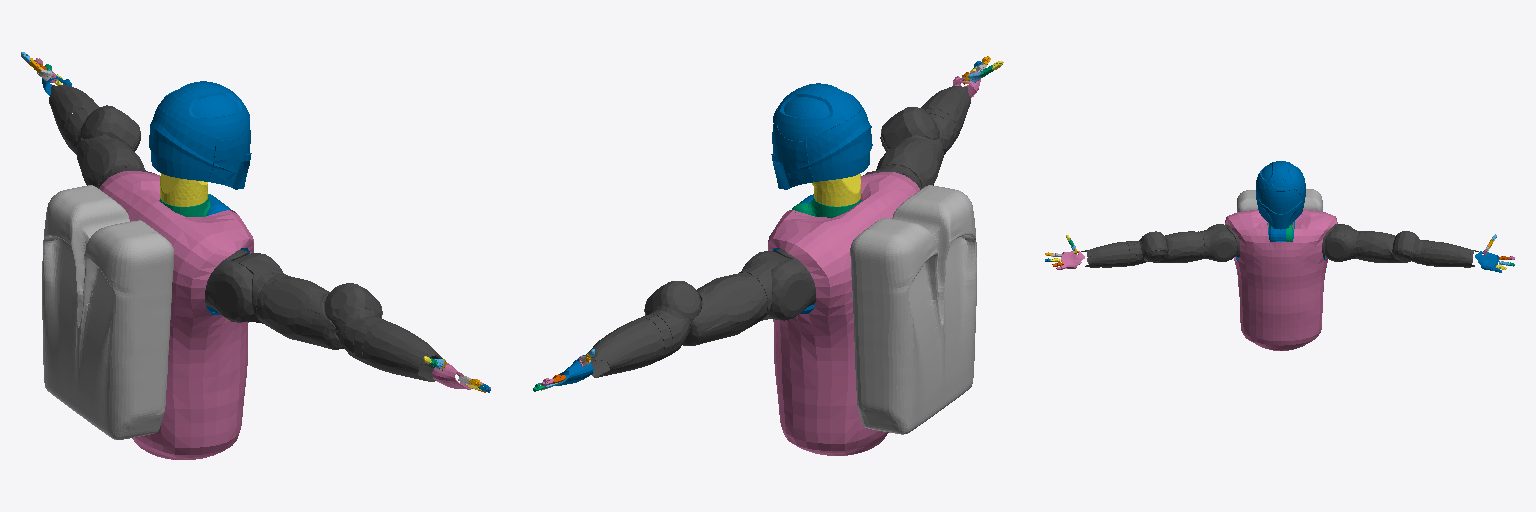
--- What the picture shows (computed from the rendered views, not written in the file) ---
3 views of the same robot in one strip: view 1: azimuth 30°, elevation 25°; view 2: azimuth 150°, elevation 25°; view 3: azimuth 270°, elevation 25° (orthographic).
Model r2 with 71 links and 70 joints (42 revolute, 28 fixed), rooted at r2/world_ref, posed all joints at 0 but 2 set to mid-range because 0 is outside their limits (r2/left_arm/joint2 = -2.42, r2/right_arm/joint2 = 2.42).
Links seen in each view (by area): view 1: r2/backpack, r2/body_cover, r2/head, r2/right_upper_arm, r2/right_lower_arm, r2/right_shoulder_roll, r2/right_elbow, r2/left_upper_arm, r2/left_elbow, r2/left_lower_arm, r2/neck_upper, r2/right_shoulder_pitch; view 2: r2/backpack, r2/body_cover, r2/head, r2/left_upper_arm, r2/left_lower_arm, r2/left_shoulder_roll, r2/left_elbow, r2/right_upper_arm, r2/right_elbow, r2/right_lower_arm, r2/neck_upper, r2/left_shoulder_pitch (+1 smaller); view 3: r2/body_cover, r2/head, r2/left_upper_arm, r2/right_upper_arm, r2/right_lower_arm, r2/left_lower_arm, r2/right_shoulder_pitch, r2/left_shoulder_pitch, r2/backpack, r2/left_elbow, r2/right_elbow.
Link boxes in pixels (box(x1,y1,x2,y2)): r2/backpack: box(42, 185, 173, 439); r2/body_cover: box(99, 171, 253, 459); r2/head: box(149, 81, 251, 189); r2/right_upper_arm: box(256, 274, 382, 349); r2/right_lower_arm: box(354, 317, 442, 381); r2/right_shoulder_roll: box(205, 249, 255, 322); r2/right_elbow: box(325, 283, 381, 359); r2/left_upper_arm: box(77, 131, 145, 188); r2/left_elbow: box(66, 105, 139, 154); r2/left_lower_arm: box(49, 84, 99, 144); r2/neck_upper: box(160, 173, 207, 206); r2/right_shoulder_pitch: box(234, 253, 285, 323); r2/backpack: box(850, 185, 976, 434); r2/body_cover: box(768, 172, 919, 455); r2/head: box(771, 83, 872, 189); r2/left_upper_arm: box(644, 272, 767, 345); r2/left_lower_arm: box(586, 314, 672, 377); r2/left_shoulder_roll: box(768, 249, 815, 320); r2/left_elbow: box(645, 281, 701, 355); r2/right_upper_arm: box(876, 129, 943, 187); r2/right_elbow: box(881, 107, 953, 154); r2/right_lower_arm: box(921, 86, 970, 148); r2/neck_upper: box(812, 174, 860, 206); r2/left_shoulder_pitch: box(739, 251, 792, 320); r2/body_cover: box(1225, 209, 1337, 350); r2/head: box(1256, 161, 1305, 229); r2/left_upper_arm: box(1356, 231, 1415, 262); r2/right_upper_arm: box(1144, 231, 1204, 262); r2/right_lower_arm: box(1081, 241, 1136, 267); r2/left_lower_arm: box(1424, 241, 1478, 267); r2/right_shoulder_pitch: box(1200, 226, 1236, 261); r2/left_shoulder_pitch: box(1325, 226, 1360, 261); r2/backpack: box(1237, 189, 1322, 286); r2/left_elbow: box(1392, 231, 1428, 264); r2/right_elbow: box(1133, 231, 1167, 264).
Bounding box of the posed robot: 0.6249 × 2.37 × 1.02 m (x, y, z).
Meshes: 25 distinct files referenced, 38 mesh visuals loaded (25 Collada DAE).

robot.urdf — r2:
<?xml version="1.0" ?>
<!-- =================================================================================== -->
<!-- |    This document was autogenerated by xacro from ./robots/r2b_sim_upperbody_control.urdf.xacro | -->
<!-- |    EDITING THIS FILE BY HAND IS NOT RECOMMENDED                                 | -->
<!-- =================================================================================== -->
<robot name="r2" xmlns:xacro="http://www.ros.org/wiki/xacro">
  <link name="r2/world_ref"/>
  <joint name="r2/fixed/world_ref/robot_world" type="fixed">
    <parent link="r2/world_ref"/>
    <child link="r2/robot_world"/>
    <origin rpy="0 0 0" xyz="0 0 0"/>
  </joint>
  <link name="r2/robot_world">
    <inertial>
      <mass value="0.01"/>
      <inertia ixx="0.0001" ixy="0.0" ixz="0.0" iyy="0.0001" iyz="0.0" izz="0.0001"/>
    </inertial>
  </link>
  <joint name="r2/fixed/robot_world/robot_base" type="fixed">
    <parent link="r2/robot_world"/>
    <child link="r2/robot_base"/>
    <origin rpy="0.0 3.14159 3.14159" xyz="0.0 0.0 0.0"/>
  </joint>
  <link name="r2/robot_base">
    <inertial>
      <mass value="0.01"/>
      <inertia ixx="0.0001" ixy="0.0" ixz="0.0" iyy="0.0001" iyz="0.0" izz="0.0001"/>
    </inertial>
  </link>
  <material name="white">
    <color rgba="1.0 1.0 1.0 1.0"/>
  </material>
  <material name="dirty_white">
    <color rgba="0.322 0.322 0.322 1.0"/>
  </material>
  <material name="gold">
    <color rgba=".878 .49 0.008 1"/>
  </material>
  <material name="steel">
    <color rgba=".7 .7 .7 1"/>
  </material>
  <material name="blue">
    <color rgba="0 0 0.8 1"/>
  </material>
  <joint name="r2/fixed/robot_base/waist_mass" type="fixed">
    <parent link="r2/robot_base"/>
    <child link="r2/waist_mass"/>
    <origin rpy="0.0 0 0.0" xyz="0.0 0.0 -0.086855"/>
  </joint>
  <link name="r2/waist_mass">
    <inertial>
      <mass value="4.6259465"/>
      <origin rpy="0.0 0 0.0" xyz="-0.00012809088 0.000041480778 0.039080994"/>
      <inertia ixx="0.01684448" ixy="0.00021529806" ixz="-0.0000036013959" iyy="0.017313387" iyz="0.0" izz="0.028769348"/>
    </inertial>
  </link>
  <joint name="r2/waist/joint0" type="revolute">
    <parent link="r2/robot_base"/>
    <child link="r2/waist_center"/>
    <axis xyz="0 0 1"/>
    <origin rpy="0.0 0 0.0" xyz="0.0 0.0 0.0"/>
    <dynamics damping="10.0" friction="0.0"/>
    <limit effort="10000000.0" lower="-3.14" upper="3.14" velocity="1000"/>
  </joint>
  <!--includes mass properties of all torso componenents-->
  <link name="r2/waist_center">
    <visual>
      <geometry>
        <mesh filename="package://r2_description/meshes/r2_upperbody/Body.dae"/>
      </geometry>
      <origin rpy="-1.5708 0 -1.5708" xyz="0.02 0.05 -0.5625"/>
    </visual>
    <collision>
      <geometry>
        <mesh filename="package://r2_description/meshes/r2_upperbody/Body.dae"/>
      </geometry>
      <origin rpy="-1.5708 0 -1.5708" xyz="0.02 0.05 -0.5625"/>
    </collision>
    <inertial>
      <mass value="47.770842"/>
      <origin rpy="0.0 0 0.0" xyz="-0.020473299 0.0039268948 -0.36456539"/>
      <inertia ixx="1.9926945" ixy="-0.0069480619" ixz="-0.059104048" iyy="1.8449528" iyz="0.01958974" izz="0.69736445"/>
    </inertial>
  </link>
  <joint name="r2/fixed/waist_center/robot_reference" type="fixed">
    <parent link="r2/waist_center"/>
    <child link="r2/robot_reference"/>
    <origin rpy="0.0 0 0.0" xyz="0.1234 0.0 0.0"/>
  </joint>
  <joint name="r2/fixed/waist_center/body_cover" type="fixed">
    <parent link="r2/waist_center"/>
    <child link="r2/body_cover"/>
    <origin rpy="0.0 0.0 0.0" xyz="0 0.0 0.0"/>
  </joint>
  <joint name="r2/fixed/waist_center/backpack" type="fixed">
    <parent link="r2/waist_center"/>
    <child link="r2/backpack"/>
    <origin rpy="0.0 0.0 0.0" xyz="-0.145521 0.0 -0.421894"/>
  </joint>
  <joint name="r2/fixed/waist_center/left_shoulder_jr3" type="fixed">
    <parent link="r2/waist_center"/>
    <child link="r2/left_arm/shoulder/jr3"/>
    <origin rpy="0.0 0.0 1.8326" xyz="-0.0240898 -0.0996837 -0.413899"/>
  </joint>
  <joint name="r2/fixed/waist_center/right_shoulder_jr3" type="fixed">
    <parent link="r2/waist_center"/>
    <child link="r2/right_arm/shoulder/jr3"/>
    <origin rpy="0.0 0.0 -1.83259" xyz="-0.0240898 0.0996837 -0.413899"/>
  </joint>
  <link name="r2/robot_reference">
    <inertial>
      <mass value="0.01"/>
      <inertia ixx="0.0001" ixy="0.0" ixz="0.0" iyy="0.0001" iyz="0.0" izz="0.0001"/>
    </inertial>
  </link>
  <link name="r2/body_cover">
    <visual>
      <geometry>
        <mesh filename="package://r2_description/meshes/r2_upperbody/Body_Cover.dae"/>
      </geometry>
      <origin rpy="-1.5708 0 -1.5708" xyz="0.02 0.05 -0.5625"/>
    </visual>
    <collision>
      <geometry>
        <mesh filename="package://r2_description/meshes/r2_upperbody/Body_Cover.dae"/>
      </geometry>
      <origin rpy="-1.5708 0 -1.5708" xyz="0.02 0.05 -0.5625"/>
    </collision>
    <inertial>
      <mass value="0.1"/>
      <inertia ixx="0.001" ixy="0.0" ixz="0.0" iyy="0.001" iyz="0.0" izz="0.001"/>
    </inertial>
  </link>
  <link name="r2/backpack">
    <visual>
      <geometry>
        <mesh filename="package://r2_description/meshes/r2_upperbody/Backpack.dae"/>
      </geometry>
      <origin rpy="0 0 0.25" xyz="0.145521 0.0 -0.118106"/>
    </visual>
    <collision>
      <geometry>
        <mesh filename="package://r2_description/meshes/r2_upperbody/Backpack.dae"/>
      </geometry>
      <origin rpy="0 0 0.25" xyz="0.145521 0.0 -0.118106"/>
    </collision>
    <inertial>
      <mass value="23.505356"/>
      <origin rpy="0.0 0 0.0" xyz="-0.068110236 0.00026288234 -0.015523324"/>
      <inertia ixx="0.87608758" ixy="0.0031949152" ixz="-0.0042079052" iyy="0.57168416" iyz="0.0067562903" izz="0.41612859"/>
    </inertial>
  </link>
  <link name="r2/left_arm/shoulder/jr3">
    <inertial>
      <mass value="0.01"/>
      <inertia ixx="0.0001" ixy="0.0" ixz="0.0" iyy="0.0001" iyz="0.0" izz="0.0001"/>
    </inertial>
  </link>
  <link name="r2/right_arm/shoulder/jr3">
    <inertial>
      <mass value="0.01"/>
      <inertia ixx="0.0001" ixy="0.0" ixz="0.0" iyy="0.0001" iyz="0.0" izz="0.0001"/>
    </inertial>
  </link>
  <joint name="r2/neck/joint0" type="revolute">
    <parent link="r2/waist_center"/>
    <child link="r2/neck_lower"/>
    <origin rpy=" -1.5708 0.0 0.0 " xyz=" 0.08636 -0.0285749 -0.614172 "/>
    <dynamics damping="10.0" friction="0.0"/>
    <axis xyz="0 0 1"/>
    <limit effort="10000.0" lower="-0.7" upper="0.175" velocity="1000.0"/>
  </joint>
  <link name="r2/neck_lower">
    <visual>
      <geometry>
        <mesh filename="package://r2_description/meshes/r2_upperbody/Neck_Lower.dae"/>
      </geometry>
      <origin rpy="-1.5708 1.5708 0" xyz="0.0 0.0 0.0285749"/>
    </visual>
    <inertial>
      <mass value="1.531125"/>
      <origin rpy="0 0 0" xyz="-0.044614256 0.031785824 0.021419445"/>
      <inertia ixx="0.0032988044" ixy="0.0014889073" ixz="0.0004970659" iyy="0.0050478224" iyz="-0.00036827305" izz="0.0052160286"/>
    </inertial>
    <collision>
      <geometry>
        <mesh filename="package://r2_description/meshes/r2_upperbody/Neck_Lower.dae"/>
      </geometry>
      <origin rpy="-1.5708 1.5708 0" xyz="0.0 0.0 0.0285749"/>
    </collision>
  </link>
  <joint name="r2/neck/joint1" type="revolute">
    <parent link="r2/neck_lower"/>
    <child link="r2/neck_upper"/>
    <origin rpy=" -1.5708 0.0 0.0 " xyz=" -0.0762002 0.0762004 0.028575"/>
    <dynamics damping="10.0" friction="0.0"/>
    <axis xyz="0 0 1"/>
    <limit effort="10000.0" lower="-1.22" upper="1.22" velocity="1000.0"/>
  </joint>
  <link name="r2/neck_upper">
    <visual>
      <geometry>
        <mesh filename="package://r2_description/meshes/r2_upperbody/Neck_Upper.dae"/>
      </geometry>
      <origin rpy="0 0 1.5708" xyz="0.0762002 0 -0.0762004"/>
    </visual>
    <inertial>
      <mass value="2.234558"/>
      <origin rpy="0 0 0" xyz="0.0127259 0.0072291452 0.048896507"/>
      <inertia ixx="0.0074125667" ixy="-0.00042898316" ixz="-0.0014528455" iyy="0.0080268117" iyz="-0.00076230267" izz="0.00051467581"/>
    </inertial>
    <collision>
      <geometry>
        <mesh filename="package://r2_description/meshes/r2_upperbody/Neck_Upper.dae"/>
      </geometry>
      <origin rpy="0 0 1.5708" xyz="0.0762002 0 -0.0762004"/>
    </collision>
  </link>
  <joint name="r2/neck/joint2" type="revolute">
    <parent link="r2/neck_upper"/>
    <child link="r2/head"/>
    <origin rpy=" 1.5708 0.0 0.0 " xyz="0.0508 0.0074676 0.101587"/>
    <dynamics damping="10.0" friction="0.0"/>
    <axis xyz="0 0 1"/>
    <limit effort="10000.0" lower="-0.7" upper="0.175" velocity="1000.0"/>
  </joint>
  <link name="r2/head">
    <visual>
      <geometry>
        <mesh filename="package://r2_description/meshes/r2_upperbody/Head.dae"/>
      </geometry>
      <origin rpy="0 1.5708 0" xyz="0.0 0.07 0.0074676"/>
    </visual>
    <collision>
      <geometry>
        <mesh filename="package://r2_description/meshes/r2_upperbody/Head.dae"/>
      </geometry>
      <origin rpy="0 1.5708 0" xyz="0.0 0.07 0.0074676"/>
    </collision>
    <inertial>
      <mass value="5.8503785"/>
      <origin rpy="0 0 0" xyz="0.0048289919 0.074486518 0.013796703"/>
      <inertia ixx="0.045520172" ixy="0.0076844267" ixz="0.0005272352" iyy="0.035519354" iyz="0.001323319" izz="0.044699541"/>
    </inertial>
  </link>
  <joint name="r2/fixed/neck_roll/vision_base" type="fixed">
    <parent link="r2/head"/>
    <child link="r2/head/vision_base"/>
    <origin rpy=" 1.5708 0.0 0.0 " xyz=" 0.0 -0.058 0.0074676"/>
  </joint>
  <link name="r2/head/vision_base">
    <inertial>
      <mass value=".1"/>
      <inertia ixx=".0010" ixy="0.0" ixz="0.0" iyy=".0010" iyz="0.0" izz=".0010"/>
    </inertial>
  </link>
  <!-- depth camera -->
  <joint name="r2/fixed/vision_base/swissranger_frame" type="fixed">
    <parent link="r2/head/vision_base"/>
    <child link="r2/head/swissranger_frame"/>
    <!--<origin rpy="1.3908 0.0 1.5708 " xyz="0.1103264 0.0 -0.005523 "/> -->
    <origin rpy="1.5708 0.0 1.5708 " xyz="0.1103264 0.0 -0.005523 "/>
  </joint>
  <link name="r2/head/swissranger_frame">
    <inertial>
      <mass value=".01"/>
      <inertia ixx=".0010" ixy="0.0" ixz="0.0" iyy=".0010" iyz="0.0" izz=".0010"/>
    </inertial>
  </link>
  <!--stereo cameras -->
  <joint name="r2/fixed/vision_base/vision_center_frame" type="fixed">
    <parent link="r2/head/vision_base"/>
    <child link="r2/head/vision_center_frame"/>
    <dynamics damping="1.0"/>
    <origin rpy="1.5708 -1.5708 1.5708" xyz=" 0.066675 0.0 -0.116205 "/>
  </joint>
  <link name="r2/head/vision_center_frame">
    <inertial>
      <mass value=".1"/>
      <inertia ixx=".0010" ixy="0.0" ixz="0.0" iyy=".0010" iyz="0.0" izz=".0010"/>
    </inertial>
  </link>
  <joint name="r2/fixed/vision_center_frame/left_camera_frame" type="fixed">
    <parent link="r2/head/vision_center_frame"/>
    <child link="r2/head/prosilica/left_camera_frame"/>
    <dynamics damping="1.0"/>
    <origin rpy="0 0 -1.5708" xyz="0.0087 0.04887 0.01789"/>
  </joint>
  <link name="r2/head/prosilica/left_camera_frame">
    <inertial>
      <mass value=".1"/>
      <inertia ixx=".0010" ixy="0.0" ixz="0.0" iyy=".0010" iyz="0.0" izz=".0010"/>
    </inertial>
  </link>
  <joint name="r2/fixed/vision_center_frame/right_camera_frame" type="fixed">
    <parent link="r2/head/vision_center_frame"/>
    <child link="r2/head/prosilica/right_camera_frame"/>
    <dynamics damping="1.0"/>
    <origin rpy="0 0 -1.5708" xyz="0.0087 -0.04887 0.01789"/>
  </joint>
  <link name="r2/head/prosilica/right_camera_frame">
    <inertial>
      <mass value=".1"/>
      <inertia ixx=".0010" ixy="0.0" ixz="0.0" iyy=".0010" iyz="0.0" izz=".0010"/>
    </inertial>
  </link>
  <link name="r2/imu">
    <inertial>
      <mass value="0.01"/>
      <inertia ixx="0.0001" ixy="0.0" ixz="0.0" iyy="0.0001" iyz="0.0" izz="0.0001"/>
    </inertial>
  </link>
  <joint name="r2/fixed/robot_base/imu" type="fixed">
    <parent link="r2/waist_center"/>
    <child link="r2/imu"/>
    <origin rpy="1.5708 0 0" xyz="0.017351 -0.116179 -0.112236"/>
  </joint>
  <joint name="r2/left_arm/joint0" type="revolute">
    <parent link="r2/left_arm/shoulder/jr3"/>
    <child link="r2/left_shoulder_roll"/>
    <origin rpy="0.0 -1.5708 0.0" xyz="0.0054611 0.0 -0.13041"/>
    <axis xyz="0 0 1"/>
    <dynamics damping="10.0" friction="0.0"/>
    <limit effort="100.0" lower="-2.8270" upper="2.8270" velocity="1000"/>
  </joint>
  <link name="r2/left_shoulder_roll">
    <visual>
      <geometry>
        <mesh filename="package://r2_description/meshes/r2_upperbody/Left_Shoulder_Upper.dae"/>
      </geometry>
      <material name="dirty_white"/>
      <origin rpy="0.0 0.0 3.1416" xyz="0.0 0.0 -0.01274"/>
    </visual>
    <collision>
      <geometry>
        <mesh filename="package://r2_description/meshes/r2_upperbody/Left_Shoulder_Upper.dae"/>
      </geometry>
      <origin rpy="0.0 0.0 3.1416" xyz="0.0 0.0 -0.01274"/>
    </collision>
    <inertial>
      <origin xyz="0.00017093234 -0.0087284787   -0.10884506"/>
      <mass value="7.070314"/>
      <inertia ixx="0.076584602" ixy="0.000086319951" ixz="0.00054609047" iyy="0.08016999" iyz="0.0066841031" izz="0.02390013"/>
    </inertial>
  </link>
  <joint name="r2/left_arm/joint1" type="revolute">
    <parent link="r2/left_shoulder_roll"/>
    <child link="r2/left_shoulder_pitch"/>
    <origin rpy=" 0.0 -1.5708 1.5708" xyz=" 0.0 0.0466596 0.210022 "/>
    <axis xyz="0 0 1"/>
    <dynamics damping="10.0" friction="0.0"/>
    <limit effort="100.0" lower="-1.6758" upper="0.4292" velocity="1000"/>
  </joint>
  <link name="r2/left_shoulder_pitch">
    <visual>
      <geometry>
        <mesh filename="package://r2_description/meshes/r2_upperbody/Left_Shoulder_Lower.dae"/>
      </geometry>
      <material name="dirty_white"/>
      <origin rpy="0.0 0.0 0.0" xyz="0.0 0.0 0.0466596"/>
    </visual>
    <collision>
      <geometry>
        <mesh filename="package://r2_description/meshes/r2_upperbody/Left_Shoulder_Lower.dae"/>
      </geometry>
      <origin rpy="0.0 0.0 0.0" xyz="0.0 0.0 0.0466596"/>
    </collision>
    <inertial>
      <origin xyz="0.034871718 0.00026989995  -0.056391797"/>
      <mass value="4.7275387"/>
      <inertia ixx="0.01281093" ixy="-0.000025211205" ixz="-0.0019887882" iyy="0.026994354" iyz="-0.000056988895" izz="0.028670313"/>
    </inertial>
  </link>
  <joint name="r2/left_arm/joint2" type="revolute">
    <parent link="r2/left_shoulder_pitch"/>
    <child link="r2/left_upper_arm"/>
    <origin rpy="-1.5708 0.0 -1.5708" xyz="0.169324 0 0.0458976"/>
    <axis xyz="0 0 1"/>
    <dynamics damping="10.0" friction="0.0"/>
    <limit effort="100.0" lower="-4.5028" upper="-0.3318" velocity="1000"/>
  </joint>
  <link name="r2/left_upper_arm">
    <visual>
      <geometry>
        <mesh filename="package://r2_description/meshes/r2_upperbody/Left_Upper_Arm.dae"/>
      </geometry>
      <material name="dirty_white"/>
      <origin rpy="0.0 0.0 0.0" xyz="0.0 0.0 -0.067724"/>
    </visual>
    <collision>
      <geometry>
        <mesh filename="package://r2_description/meshes/r2_upperbody/Left_Upper_Arm.dae"/>
      </geometry>
      <origin rpy="0.0 0.0 0.0" xyz="0.0 0.0 -0.067724"/>
    </collision>
    <inertial>
      <origin xyz="0.011979384 -0.0073390714 0.079871897"/>
      <mass value="4.9025709"/>
      <inertia ixx="0.044036190" ixy="0.0013812407" ixz="-0.0068318982" iyy="0.048358309" iyz="0.0035598559" izz="0.016564943"/>
    </inertial>
  </link>
  <joint name="r2/left_arm/joint3" type="revolute">
    <parent link="r2/left_upper_arm"/>
    <child link="r2/left_elbow"/>
    <origin rpy="0.0 -1.5708 1.5708" xyz="0.05334 0.0313243 0.185006"/>
    <axis xyz="0 0 1"/>
    <dynamics damping="1.0" friction="0.0"/>
    <limit effort="100.0" lower="-2.7930" upper="0.0" velocity="1000"/>
  </joint>
  <link name="r2/left_elbow">
    <visual>
      <geometry>
        <mesh filename="package://r2_description/meshes/r2_upperbody/Left_Elbow.dae"/>
      </geometry>
      <material name="dirty_white"/>
      <origin rpy="0 0.0 0" xyz="0 0 0.0313243"/>
    </visual>
    <collision>
      <geometry>
        <mesh filename="package://r2_description/meshes/r2_upperbody/Left_Elbow.dae"/>
      </geometry>
      <origin rpy="0 0.0 0" xyz="0.0 0.0 0.0313243"/>
    </collision>
    <inertial>
      <origin xyz="0.035398630 0.025517855  -0.036241795"/>
      <mass value="2.3377006"/>
      <inertia ixx="0.0067529558" ixy="-0.0026092481" ixz="-0.00060380235" iyy="0.0080987220" iyz="-0.00047453566" izz="0.009863562"/>
    </inertial>
  </link>
  <joint name="r2/left_arm/joint4" type="revolute">
    <parent link="r2/left_elbow"/>
    <child link="r2/left_joint4_output"/>
    <origin rpy="-0.9550 1.5708 -0.9550" xyz="0.0541223 0.0533300 0.0305397"/>
    <axis xyz="0 0 1"/>
    <dynamics damping="1.0" friction="0.0"/>
    <limit effort="100.0" lower="-1.5360" upper="4.6770" velocity="1000"/>
  </joint>
  <link name="r2/left_joint4_output">
    <inertial>
      <mass value="0.01"/>
      <inertia ixx="0.0001" ixy="0.0" ixz="0.0" iyy="0.0001" iyz="0.0" izz="0.0001"/>
    </inertial>
  </link>
  <joint name="r2/fixed/left_lower_arm/left_forearm_jr3" type="fixed">
    <parent link="r2/left_joint4_output"/>
    <child link="r2/left_arm/forearm/jr3"/>
    <origin rpy="3.1416 0.0 0.78539" xyz="0.0 0.0 0.0897574"/>
  </joint>
  <link name="r2/left_arm/forearm/jr3">
    <inertial>
      <mass value="0.01"/>
      <inertia ixx="0.0001" ixy="0.0" ixz="0.0" iyy="0.0001" iyz="0.0" izz="0.0001"/>
    </inertial>
  </link>
  <joint name="r2/fixed/left_lower_arm/left_forearm" type="fixed">
    <parent link="r2/left_arm/forearm/jr3"/>
    <child link="r2/left_lower_arm"/>
    <origin rpy="3.1416 0.0 0.7854" xyz="0.0 0.0 0.0897574"/>
  </joint>
  <link name="r2/left_lower_arm">
    <visual>
      <geometry>
        <mesh filename="package://r2_description/meshes/r2_upperbody/Left_Forearm.dae"/>
      </geometry>
      <material name="dirty_white"/>
      <origin rpy="0 0 1.5708" xyz="0 0.0 0.0458777"/>
    </visual>
    <collision>
      <geometry>
        <mesh filename="package://r2_description/meshes/r2_upperbody/Left_Forearm.dae"/>
      </geometry>
      <origin rpy="0 0 1.5708" xyz="0 0.0 0.0458777"/>
    </collision>
    <inertial>
      <origin xyz="0.0039950818 0.00044312736  0.16275601"/>
      <mass value="8.1525875"/>
      <inertia ixx="0.10706156" ixy="0.00070538028" ixz="-0.0061176777" iyy="0.11007507" iyz="0.0020551081" izz="0.015240452"/>
    </inertial>
  </link>
  <joint name="r2/left_arm/wrist/pitch" type="revolute">
    <parent link="r2/left_lower_arm"/>
    <child link="r2/left_wrist_pitch"/>
    <origin rpy="0 -1.5708 0.0 " xyz="0.000616510 0 0.301768"/>
    <axis xyz="0 0 1"/>
    <dynamics damping="1.0" friction="0.0"/>
    <limit effort="100.0" lower="-0.8" upper="0.8" velocity="1000"/>
  </joint>
  <link name="r2/left_wrist_pitch">
    <inertial>
      <origin xyz="0.0 0.0 0.0"/>
      <mass value="0.01"/>
      <inertia ixx="0.0001" ixy="0.0" ixz="0.0" iyy="0.0001" iyz="0.0" izz="0.0001"/>
    </inertial>
  </link>
  <joint name="r2/left_arm/wrist/yaw" type="revolute">
    <parent link="r2/left_wrist_pitch"/>
    <child link="r2/left_wrist_yaw"/>
    <origin rpy="1.5708 0.0646 -0.0802" xyz="0.00635 0 0.00041451"/>
    <axis xyz="0 0 1"/>
    <dynamics damping="1.0" friction="0.0"/>
    <limit effort="100.0" lower="-0.75" upper="0.15" velocity="1000"/>
  </joint>
  <link name="r2/left_wrist_yaw">
    <inertial>
      <origin xyz="0.0 0.0 0.0"/>
      <mass value="0.01"/>
      <inertia ixx="0.0001" ixy="0.0" ixz="0.0" iyy="0.0001" iyz="0.0" izz="0.0001"/>
    </inertial>
  </link>
  <joint name="r2/fixed/left_wrist_yaw/left_palm" type="fixed">
    <parent link="r2/left_wrist_yaw"/>
    <child link="r2/left_palm"/>
    <origin rpy=" 0.0 0.0 0" xyz=" 0.0 0.0 0.0 "/>
  </joint>
  <link name="r2/left_palm">
    <visual>
      <geometry>
        <mesh filename="package://r2_description/meshes/r2_upperbody/Left_Palm.dae"/>
      </geometry>
      <origin rpy="3.1416 0 1.5708" xyz="0.0 0.0 0.0"/>
    </visual>
    <collision>
      <geometry>
        <mesh filename="package://r2_description/meshes/r2_upperbody/Left_Palm.dae"/>
      </geometry>
      <origin rpy="3.1416 0 1.5708" xyz="0.0 0.0 0.0"/>
    </collision>
    <inertial>
      <mass value="0.01"/>
      <inertia ixx="0.0001" ixy="0.0" ixz="0.0" iyy="0.0001" iyz="0.0" izz="0.0001"/>
    </inertial>
  </link>
  <!--
  <property name="left_arm_hand_index_j3_damping" value= "0.1" />
  <property name="left_arm_hand_index_j3_friction" value= "0.0" />
-->
  <!--
  <property name="left_arm_hand_middle_j3_damping" value= "0.1" />
  <property name="left_arm_hand_middle_j3_friction" value= "0.0" />
-->
  <!--
  <property name="left_arm_hand_ring_j1_damping" value= "0.1" />
  <property name="left_arm_hand_ring_j1_friction" value= "0.0" />
  <property name="left_arm_hand_ring_j2_damping" value= "0.1" />
  <property name="left_arm_hand_ring_j2_friction" value= "0.0" />
-->
  <!--
  <property name="left_arm_hand_little_j1_damping" value= "0.1" />
  <property name="left_arm_hand_little_j1_friction" value= "0.0" />
  <property name="left_arm_hand_little_j2_damping" value= "0.1" />
  <property name="left_arm_hand_little_j2_friction" value= "0.0" />
-->
  <joint name="r2/left_arm/hand/thumb/roll" type="revolute">
    <parent link="r2/left_wrist_yaw"/>
    <child link="r2/left_thumb_base"/>
    <origin rpy=" -1.5708 0.0 1.30899702752 " xyz=" 0.03302 0.03048 0.00635 "/>
    <axis xyz="0 0 1"/>
    <limit effort="10000000.0" lower="-4" upper="4" velocity="1000"/>
    <dynamics damping="0.1" friction="0.0"/>
  </joint>
  <joint name="r2/fixed/left_index_base/left_index_base" type="fixed">
    <parent link="r2/left_wrist_yaw"/>
    <child link="r2/left_index_base"/>
    <origin rpy=" 0.0 0.0 0.122172725275 " xyz=" 0.0994646728 0.0271119346 -0.0161544 "/>
  </joint>
  <joint name="r2/left_arm/hand/index/yaw" type="revolute">
    <parent link="r2/left_index_base"/>
    <child link="r2/left_index_yaw"/>
    <origin rpy="0.0 0.0 0.0" xyz="0.0 0.0 0.0"/>
    <axis xyz="0 0 1"/>
    <limit effort="10000000.0" lower="-4" upper="4" velocity="1000"/>
    <dynamics damping="0.1" friction="0.0"/>
  </joint>
  <joint name="r2/fixed/left_middle_base/left_middle_base" type="fixed">
    <parent link="r2/left_wrist_yaw"/>
    <child link="r2/left_middle_base"/>
    <origin rpy=" 0.0 0.0 0.0 " xyz=" 0.10646537 0.00254 -0.0161544 "/>
  </joint>
  <joint name="r2/left_arm/hand/middle/yaw" type="revolute">
    <parent link="r2/left_middle_base"/>
    <child link="r2/left_middle_yaw"/>
    <origin rpy="0.0 0.0 0.0" xyz="0.0 0.0 0.0"/>
    <axis xyz="0 0 1"/>
    <limit effort="10000000.0" lower="-4" upper="4" velocity="1000"/>
    <dynamics damping="0.1" friction="0.0"/>
  </joint>
  <joint name="r2/left_arm/hand/ringlittle/ring" type="revolute">
    <parent link="r2/left_wrist_yaw"/>
    <child link="r2/left_ring_proximal"/>
    <origin rpy=" 1.5708 -0.0 -0.122172725275 " xyz=" 0.1084570602 -0.0197673468 -0.012319 "/>
    <axis xyz="0 0 1"/>
    <limit effort="10000000.0" lower="-4" upper="4" velocity="1000"/>
    <dynamics damping="0.1" friction="0.0"/>
  </joint>
  <joint name="r2/left_arm/hand/ringlittle/little" type="revolute">
    <parent link="r2/left_wrist_yaw"/>
    <child link="r2/left_little_proximal"/>
    <origin rpy=" 1.60570321374 -0.0872667473393 -0.17453258148 " xyz=" 0.094635701 -0.0403792436 -0.0060878212 "/>
    <axis xyz="0 0 1"/>
    <limit effort="10000000.0" lower="-4" upper="4" velocity="1000"/>
    <dynamics damping="0.1" friction="0.0"/>
  </joint>
  <link name="r2/left_thumb_base">
    <inertial>
      <mass value=".05"/>
      <inertia ixx=".0010" ixy="0.0" ixz="0.0" iyy=".0010" iyz="0.0" izz=".0010"/>
    </inertial>
  </link>
  <joint name="r2/fixed/left_thumb_base/left_thumb_proximal" type="fixed">
    <parent link="r2/left_thumb_base"/>
    <child link="r2/left_thumb_proximal"/>
    <origin rpy=" -1.5708 -0.0 0.0 " xyz=" 0.011938 0.0 0.0 "/>
  </joint>
  <link name="r2/left_thumb_proximal">
    <inertial>
      <mass value=".0010"/>
      <inertia ixx=".0010" ixy="0.0" ixz="0.0" iyy=".0010" iyz="0.0" izz=".0010"/>
    </inertial>
    <visual>
      <geometry>
        <mesh filename="package://r2_description/meshes/r2_upperbody/Left_Thumb_Carp.dae"/>
      </geometry>
      <origin rpy="-1.5708 0 0" xyz="-0.01 0.0 0.0"/>
    </visual>
    <collision>
      <geometry>
        <mesh filename="package://r2_description/meshes/r2_upperbody/Left_Thumb_Carp.dae"/>
      </geometry>
      <origin rpy="-1.5708 0 0" xyz="-0.01 0.0 0.0"/>
    </collision>
  </link>
  <joint name="r2/left_arm/hand/thumb/proximal" type="revolute">
    <parent link="r2/left_thumb_proximal"/>
    <child link="r2/left_thumb_medial_prime"/>
    <origin rpy=" 0.0 0.0 0.0 " xyz=" 0.0 0.0 0.0 "/>
    <axis xyz="0 0 1"/>
    <limit effort="10000000.0" lower="-4" upper="4" velocity="1000"/>
    <dynamics damping="0.1" friction="0.0"/>
  </joint>
  <link name="r2/left_thumb_medial_prime">
    <inertial>
      <mass value=".0010"/>
      <inertia ixx=".0010" ixy="0.0" ixz="0.0" iyy=".0010" iyz="0.0" izz=".0010"/>
    </inertial>
    <visual>
      <geometry>
        <mesh filename="package://r2_description/meshes/r2_upperbody/Left_Thumb_MtCar.dae"/>
      </geometry>
      <origin rpy="-1.5708 -1.5708 0" xyz="-0.0 0 0.0"/>
    </visual>
    <collision>
      <geometry>
        <mesh filename="package://r2_description/meshes/r2_upperbody/Left_Thumb_MtCar.dae"/>
      </geometry>
      <origin rpy="-1.5708 -1.5708 0" xyz="0.0 0.0 0.0"/>
    </collision>
  </link>
  <joint name="r2/left_arm/hand/thumb/medial" type="revolute">
    <parent link="r2/left_thumb_medial_prime"/>
    <child link="r2/left_thumb_medial"/>
    <origin rpy=" -0.698132284627 -0.0 0.0 " xyz=" 0.030734 -0.001905 0.00254 "/>
    <axis xyz="0 0 1"/>
    <limit effort="10000000.0" lower="-4" upper="4" velocity="1000"/>
    <dynamics damping="0.1" friction="0.0"/>
  </joint>
  <link name="r2/left_thumb_medial">
    <inertial>
      <mass value=".0010"/>
      <inertia ixx=".0010" ixy="0.0" ixz="0.0" iyy=".0010" iyz="0.0" izz=".0010"/>
    </inertial>
    <visual>
      <geometry>
        <mesh filename="package://r2_description/meshes/r2_upperbody/Thumb_Proximal.dae"/>
      </geometry>
      <origin rpy="3.1416 0 1.5708" xyz="0.0 0.0 0.0"/>
    </visual>
    <collision>
      <geometry>
        <mesh filename="package://r2_description/meshes/r2_upperbody/Thumb_Proximal.dae"/>
      </geometry>
      <origin rpy="3.1416 0 1.5708" xyz="0.0 0.0 0.0"/>
    </collision>
  </link>
  <joint name="r2/left_arm/hand/thumb/distal" type="revolute">
    <parent link="r2/left_thumb_medial"/>
    <child link="r2/left_thumb_distal"/>
    <origin rpy=" 0.0 0.0 0.0 " xyz=" 0.03937 0.0 0.0 "/>
    <axis xyz="0 0 1"/>
    <limit effort="10000000.0" lower="-4" upper="4" velocity="1000"/>
    <dynamics damping="0.1" friction="0.0"/>
  </joint>
  <link name="r2/left_thumb_distal">
    <inertial>
      <mass value=".0010"/>
      <inertia ixx=".0010" ixy="0.0" ixz="0.0" iyy=".0010" iyz="0.0" izz=".0010"/>
    </inertial>
    <visual>
      <geometry>
        <mesh filename="package://r2_description/meshes/r2_upperbody/Thumb_Dist.dae"/>
      </geometry>
      <origin rpy="3.1416 3.1416 0" xyz="0.0 0.0 0.0"/>
    </visual>
    <collision>
      <geometry>
        <mesh filename="package://r2_description/meshes/r2_upperbody/Thumb_Dist.dae"/>
      </geometry>
      <origin rpy="3.1416 3.1416 0" xyz="0.0 0.0 0.0"/>
    </collision>
  </link>
  <joint name="r2/fixed/left_thumb_distal/left_thumb_tip" type="fixed">
    <parent link="r2/left_thumb_distal"/>
    <child link="r2/left_thumb_tip"/>
    <origin rpy=" 0.0 0.0 0.0 " xyz=" 0.03302 0.0 0.0 "/>
  </joint>
  <link name="r2/left_thumb_tip">
    <inertial>
      <mass value=".0010"/>
      <inertia ixx=".0010" ixy="0.0" ixz="0.0" iyy=".0010" iyz="0.0" izz=".0010"/>
    </inertial>
  </link>
  <link name="r2/left_index_base">
    <inertial>
      <mass value=".0010"/>
      <inertia ixx=".0010" ixy="0.0" ixz="0.0" iyy=".0010" iyz="0.0" izz=".0010"/>
    </inertial>
  </link>
  <link name="r2/left_index_yaw">
    <inertial>
      <mass value=".0010"/>
      <inertia ixx=".0010" ixy="0.0" ixz="0.0" iyy=".0010" iyz="0.0" izz=".0010"/>
    </inertial>
  </link>
  <joint name="r2/left_arm/hand/index/proximal" type="revolute">
    <parent link="r2/left_index_yaw"/>
    <child link="r2/left_index_proximal"/>
    <origin rpy=" 1.5708 0.0 0.0 " xyz=" 0.009652 0.0 0.0 "/>
    <axis xyz="0 0 1"/>
    <limit effort="10000000.0" lower="-4" upper="4" velocity="1000"/>
    <dynamics damping="0.1" friction="0.0"/>
  </joint>
  <link name="r2/left_index_proximal">
    <inertial>
      <mass value=".0010"/>
      <inertia ixx=".0010" ixy="0.0" ixz="0.0" iyy=".0010" iyz="0.0" izz=".0010"/>
    </inertial>
    <visual>
      <geometry>
        <mesh filename="package://r2_description/meshes/r2_upperbody/Finger_Proximal.dae"/>
      </geometry>
      <origin rpy="0 0 1.5708" xyz="0.0 0.0 0.0"/>
    </visual>
    <collision>
      <geometry>
        <mesh filename="package://r2_description/meshes/r2_upperbody/Finger_Proximal.dae"/>
      </geometry>
      <origin rpy="0 0 1.5708" xyz="0.0 0.0 0.0"/>
    </collision>
  </link>
  <joint name="r2/left_arm/hand/index/medial" type="revolute">
    <parent link="r2/left_index_proximal"/>
    <child link="r2/left_index_medial"/>
    <origin rpy=" 0.0 0.0 0.0 " xyz=" 0.04445 0.0 0.0 "/>
    <axis xyz="0 0 1"/>
    <limit effort="10000000.0" lower="-4" upper="4" velocity="1000"/>
    <dynamics damping="0.1" friction="0.0"/>
  </joint>
  <link name="r2/left_index_medial">
    <inertial>
      <mass value=".0010"/>
      <inertia ixx=".0010" ixy="0.0" ixz="0.0" iyy=".0010" iyz="0.0" izz=".0010"/>
    </inertial>
    <visual>
      <geometry>
        <mesh filename="package://r2_description/meshes/r2_upperbody/Finger_Mid.dae"/>
      </geometry>
      <origin rpy="3.1416 0 1.5708" xyz="0.0 0.0 0.0"/>
    </visual>
    <collision>
      <geometry>
        <mesh filename="package://r2_description/meshes/r2_upperbody/Finger_Mid.dae"/>
      </geometry>
      <origin rpy="3.1416 0 1.5708" xyz="0.0 0.0 0.0"/>
    </collision>
  </link>
  <link name="r2/left_middle_base">
    <inertial>
      <mass value=".0010"/>
      <inertia ixx=".0010" ixy="0.0" ixz="0.0" iyy=".0010" iyz="0.0" izz=".0010"/>
    </inertial>
  </link>
  <link name="r2/left_middle_yaw">
    <inertial>
      <mass value=".0010"/>
      <inertia ixx=".0010" ixy="0.0" ixz="0.0" iyy=".0010" iyz="0.0" izz=".0010"/>
    </inertial>
  </link>
  <joint name="r2/left_arm/hand/middle/proximal" type="revolute">
    <parent link="r2/left_middle_yaw"/>
    <child link="r2/left_middle_proximal"/>
    <origin rpy=" 1.5708 0.0 0.0 " xyz=" 0.009652 0.0 0.0 "/>
    <axis xyz="0 0 1"/>
    <limit effort="10000000.0" lower="-4" upper="4" velocity="1000"/>
    <dynamics damping="0.1" friction="0.0"/>
  </joint>
  <link name="r2/left_middle_proximal">
    <inertial>
      <mass value=".0010"/>
      <inertia ixx=".0010" ixy="0.0" ixz="0.0" iyy=".0010" iyz="0.0" izz=".0010"/>
    </inertial>
    <visual>
      <geometry>
        <mesh filename="package://r2_description/meshes/r2_upperbody/Finger_Proximal.dae"/>
      </geometry>
      <origin rpy="0 0 1.5708" xyz="0.0 0.0 0.0"/>
    </visual>
    <collision>
      <geometry>
        <mesh filename="package://r2_description/meshes/r2_upperbody/Finger_Proximal.dae"/>
      </geometry>
      <origin rpy="0 0 1.5708" xyz="0.0 0.0 0.0"/>
    </collision>
  </link>
  <joint name="r2/left_arm/hand/middle/medial" type="revolute">
    <parent link="r2/left_middle_proximal"/>
    <child link="r2/left_middle_medial"/>
    <origin rpy=" 0.0 0.0 0.0 " xyz=" 0.04445 0.0 0.0 "/>
    <axis xyz="0 0 1"/>
    <limit effort="10000000.0" lower="-4" upper="4" velocity="1000"/>
    <dynamics damping="0.1" friction="0.0"/>
  </joint>
  <link name="r2/left_middle_medial">
    <inertial>
      <mass value=".0010"/>
      <inertia ixx=".0010" ixy="0.0" ixz="0.0" iyy=".0010" iyz="0.0" izz=".0010"/>
    </inertial>
    <visual>
      <geometry>
        <mesh filename="package://r2_description/meshes/r2_upperbody/Finger_Mid.dae"/>
      </geometry>
      <origin rpy="3.1416 0 1.5708" xyz="0.0 0.0 0.0"/>
    </visual>
    <collision>
      <geometry>
        <mesh filename="package://r2_description/meshes/r2_upperbody/Finger_Mid.dae"/>
      </geometry>
      <origin rpy="3.1416 0 1.5708" xyz="0.0 0.0 0.0"/>
    </collision>
  </link>
  <link name="r2/left_ring_proximal">
    <inertial>
      <mass value=".0010"/>
      <inertia ixx=".0010" ixy="0.0" ixz="0.0" iyy=".0010" iyz="0.0" izz=".0010"/>
    </inertial>
    <visual>
      <geometry>
        <mesh filename="package://r2_description/meshes/r2_upperbody/Finger_Proximal.dae"/>
      </geometry>
      <origin rpy="0 0 1.5708" xyz="0.0 0.0 0.0"/>
    </visual>
    <collision>
      <geometry>
        <mesh filename="package://r2_description/meshes/r2_upperbody/Finger_Proximal.dae"/>
      </geometry>
      <origin rpy="0 0 1.5708" xyz="0.0 0.0 0.0"/>
    </collision>
  </link>
  <link name="r2/left_little_proximal">
    <inertial>
      <mass value=".0010"/>
      <inertia ixx=".0010" ixy="0.0" ixz="0.0" iyy=".0010" iyz="0.0" izz=".0010"/>
    </inertial>
    <visual>
      <geometry>
        <mesh filename="package://r2_description/meshes/r2_upperbody/Finger_Proximal.dae"/>
      </geometry>
      <origin rpy="0 0 1.5708" xyz="0.0 0.0 0.0"/>
    </visual>
    <collision>
      <geometry>
        <mesh filename="package://r2_description/meshes/r2_upperbody/Finger_Proximal.dae"/>
      </geometry>
      <origin rpy="0 0 1.5708" xyz="0.0 0.0 0.0"/>
    </collision>
  </link>
  <joint name="r2/right_arm/joint0" type="revolute">
    <parent link="r2/right_arm/shoulder/jr3"/>
    <child link="r2/right_shoulder_roll"/>
    <origin rpy="0.0 -1.5708 0.0" xyz="0.0054611 0.0 -0.13041"/>
    <axis xyz="0 0 1"/>
    <dynamics damping="10.0" friction="0.0"/>
    <limit effort="100.0" lower="-2.8270" upper="2.8270" velocity="1000"/>
  </joint>
  <link name="r2/right_shoulder_roll">
    <visual>
      <geometry>
        <mesh filename="package://r2_description/meshes/r2_upperbody/Right_Shoulder_Upper.dae"/>
      </geometry>
      <material name="dirty_white"/>
      <origin rpy="0.0 0.0 -2.4624" xyz="0.0 0.0 -0.07734"/>
    </visual>
    <collision>
      <geometry>
        <mesh filename="package://r2_description/meshes/r2_upperbody/Right_Shoulder_Upper.dae"/>
      </geometry>
      <origin rpy="0.0 0.0 -2.4624" xyz="0.0 0.0 -0.07234"/>
    </collision>
    <inertial>
      <origin xyz="0.00017093234 -0.0087284787   -0.10884506"/>
      <mass value="8.820314"/>
      <inertia ixx="0.076584602" ixy="0.000086319951" ixz="0.00054609047" iyy="0.08016999" iyz="0.0066841031" izz="0.02390013"/>
    </inertial>
  </link>
  <joint name="r2/right_arm/joint1" type="revolute">
    <parent link="r2/right_shoulder_roll"/>
    <child link="r2/right_shoulder_pitch"/>
    <origin rpy=" 0.0 -1.5708 1.5708" xyz=" 0.0 -0.0466596 0.215143 "/>
    <axis xyz="0 0 1"/>
    <dynamics damping="10.0" friction="0.0"/>
    <limit effort="100.0" lower="-1.6758" upper="0.4292" velocity="1000"/>
  </joint>
  <link name="r2/right_shoulder_pitch">
    <visual>
      <geometry>
        <mesh filename="package://r2_description/meshes/r2_upperbody/Right_Shoulder_Lower.dae"/>
      </geometry>
      <material name="dirty_white"/>
      <origin rpy="0.0 0.0 0.0" xyz="0.0 0.0 -0.0466596"/>
    </visual>
    <collision>
      <geometry>
        <mesh filename="package://r2_description/meshes/r2_upperbody/Right_Shoulder_Lower.dae"/>
      </geometry>
      <origin rpy="0.0 0.0 0.0" xyz="0.0 0.0 -0.0466596"/>
    </collision>
    <inertial>
      <origin xyz="0.034871718 0.00026989995  -0.056391797"/>
      <mass value="4.9775387"/>
      <inertia ixx="0.01281093" ixy="-0.000025211205" ixz="-0.0019887882" iyy="0.026994354" iyz="-0.000056988895" izz="0.028670313"/>
    </inertial>
  </link>
  <joint name="r2/right_arm/joint2" type="revolute">
    <parent link="r2/right_shoulder_pitch"/>
    <child link="r2/right_upper_arm"/>
    <origin rpy="-1.5708 0.0 -1.5708" xyz="0.169324 0 -0.0458976"/>
    <axis xyz="0 0 1"/>
    <dynamics damping="10.0" friction="0.0"/>
    <limit effort="100.0" lower="0.3318" upper="4.5028" velocity="1000"/>
  </joint>
  <link name="r2/right_upper_arm">
    <visual>
      <geometry>
        <mesh filename="package://r2_description/meshes/r2_upperbody/Right_Upper_Arm.dae"/>
      </geometry>
      <material name="dirty_white"/>
      <origin rpy="0.0 0.0 0.0" xyz="0.0 0.0 -0.067724"/>
    </visual>
    <collision>
      <geometry>
        <mesh filename="package://r2_description/meshes/r2_upperbody/Right_Upper_Arm.dae"/>
      </geometry>
      <origin rpy="0.0 0.0 0.0" xyz="0.0 0.0 -0.067724"/>
    </collision>
    <inertial>
      <origin xyz="0.011979384 -0.0073390714 0.079871897"/>
      <mass value="6.1525709"/>
      <inertia ixx="0.044036190" ixy="0.0013812407" ixz="-0.0068318982" iyy="0.048358309" iyz="0.0035598559" izz="0.016564943"/>
    </inertial>
  </link>
  <joint name="r2/right_arm/joint3" type="revolute">
    <parent link="r2/right_upper_arm"/>
    <child link="r2/right_elbow"/>
    <origin rpy="0.0 -1.5708 1.5708" xyz="0.05334 -0.0313243 0.185006"/>
    <axis xyz="0 0 1"/>
    <dynamics damping="1.0" friction="0.0"/>
    <limit effort="100.0" lower="-2.7930" upper="0.0" velocity="1000"/>
  </joint>
  <link name="r2/right_elbow">
    <visual>
      <geometry>
        <mesh filename="package://r2_description/meshes/r2_upperbody/Right_Elbow.dae"/>
      </geometry>
      <material name="dirty_white"/>
      <origin rpy="0 0.0 0" xyz="0 0 -0.0313243"/>
    </visual>
    <collision>
      <geometry>
        <mesh filename="package://r2_description/meshes/r2_upperbody/Right_Elbow.dae"/>
      </geometry>
      <origin rpy="0 0.0 0" xyz="0 0 -0.0313243"/>
    </collision>
    <inertial>
      <origin xyz="0.035398630 0.025517855  -0.036241795"/>
      <mass value="2.3377006"/>
      <inertia ixx="0.0067529558" ixy="-0.0026092481" ixz="-0.00060380235" iyy="0.0080987220" iyz="-0.00047453566" izz="0.009863562"/>
    </inertial>
  </link>
  <joint name="r2/right_arm/joint4" type="revolute">
    <parent link="r2/right_elbow"/>
    <child link="r2/right_joint4_output"/>
    <origin rpy="-0.9550 1.5708 -0.9550" xyz="0.0541223 0.0533300 -0.0305397"/>
    <axis xyz="0 0 1"/>
    <dynamics damping="1.0" friction="0.0"/>
    <limit effort="100.0" lower="-4.6770" upper="1.5360" velocity="1000"/>
  </joint>
  <link name="r2/right_joint4_output">
    <inertial>
      <mass value="0.01"/>
      <inertia ixx="0.0001" ixy="0.0" ixz="0.0" iyy="0.0001" iyz="0.0" izz="0.0001"/>
    </inertial>
  </link>
  <joint name="r2/fixed/right_lower_arm/right_forearm_jr3" type="fixed">
    <parent link="r2/right_joint4_output"/>
    <child link="r2/right_arm/forearm/jr3"/>
    <origin rpy="3.1416 0.0 0.78539" xyz="0.0 0.0 0.1435038 "/>
  </joint>
  <link name="r2/right_arm/forearm/jr3">
    <inertial>
      <mass value="0.01"/>
      <inertia ixx="0.0001" ixy="0.0" ixz="0.0" iyy="0.0001" iyz="0.0" izz="0.0001"/>
    </inertial>
  </link>
  <joint name="r2/fixed/right_lower_arm/right_forearm" type="fixed">
    <parent link="r2/right_arm/forearm/jr3"/>
    <child link="r2/right_lower_arm"/>
    <origin rpy="3.1416 0.0 0.7854" xyz="0.0 0.0 0.1435"/>
  </joint>
  <link name="r2/right_lower_arm">
    <visual>
      <geometry>
        <mesh filename="package://r2_description/meshes/r2_upperbody/Right_Forearm.dae"/>
      </geometry>
      <material name="dirty_white"/>
      <origin rpy="0 0 1.5708" xyz="0 0.0 0.0458777"/>
    </visual>
    <collision>
      <geometry>
        <mesh filename="package://r2_description/meshes/r2_upperbody/Right_Forearm.dae"/>
      </geometry>
      <origin rpy="0 0 1.5708" xyz="0 0.0 0.0458777"/>
    </collision>
    <inertial>
      <origin xyz="0.0039950818 0.00044312736  0.16275601"/>
      <mass value="8.1525875"/>
      <inertia ixx="0.10706156" ixy="0.00070538028" ixz="-0.0061176777" iyy="0.11007507" iyz="0.0020551081" izz="0.015240452"/>
    </inertial>
  </link>
  <joint name="r2/right_arm/wrist/pitch" type="revolute">
    <parent link="r2/right_lower_arm"/>
    <child link="r2/right_wrist_pitch"/>
    <origin rpy="0 -1.5708 0" xyz="-0.000616510 0 0.301768"/>
    <axis xyz="0 0 1"/>
    <dynamics damping="1.0" friction="0.0"/>
    <limit effort="100.0" lower="-0.8" upper="0.8" velocity="1000"/>
  </joint>
  <link name="r2/right_wrist_pitch">
    <inertial>
      <origin xyz="0.0 0.0 0.0"/>
      <mass value="0.01"/>
      <inertia ixx=".0001" ixy="0.0" ixz="0.0" iyy="0.0001" iyz="0.0" izz="0.0001"/>
    </inertial>
  </link>
  <joint name="r2/right_arm/wrist/yaw" type="revolute">
    <parent link="r2/right_wrist_pitch"/>
    <child link="r2/right_wrist_yaw"/>
    <origin rpy="1.5708 0.0646 -0.0802" xyz="0.00635 0 -0.00041451"/>
    <axis xyz="0 0 1"/>
    <dynamics damping="1.0" friction="0.0"/>
    <limit effort="100.0" lower="-0.15" upper="0.75" velocity="1000"/>
  </joint>
  <link name="r2/right_wrist_yaw">
    <inertial>
      <origin xyz="0.0 0.0 0.0"/>
      <mass value="0.01"/>
      <inertia ixx="0.0001" ixy="0.0" ixz="0.0" iyy="0.0001" iyz="0.0" izz="0.0001"/>
    </inertial>
  </link>
  <joint name="r2/fixed/right_wrist_yaw/right_palm" type="fixed">
    <parent link="r2/right_wrist_yaw"/>
    <child link="r2/right_palm"/>
    <origin rpy=" 0.0 0.0 0" xyz=" 0.0 0.0 0.0"/>
  </joint>
  <link name="r2/right_palm">
    <visual>
      <geometry>
        <mesh filename="package://r2_description/meshes/r2_upperbody/Right_Palm.dae"/>
      </geometry>
      <origin rpy="3.1416 0 1.5708" xyz="0.0 0.0 0.0"/>
    </visual>
    <collision>
      <geometry>
        <mesh filename="package://r2_description/meshes/r2_upperbody/Right_Palm.dae"/>
      </geometry>
      <origin rpy="3.1416 0 1.5708" xyz="0.0 0.0 0.0"/>
    </collision>
    <inertial>
      <mass value="0.01"/>
      <inertia ixx="0.0001" ixy="0.0" ixz="0.0" iyy="0.0001" iyz="0.0" izz="0.0001"/>
    </inertial>
  </link>
  <!--
  <property name="right_arm_hand_index_j3_damping" value= "0.1" />
  <property name="right_arm_hand_index_j3_friction" value= "0.0" />
-->
  <!--
  <property name="right_arm_hand_middle_j3_damping" value= "0.1" />
  <property name="right_arm_hand_middle_j3_friction" value= "0.0" />
-->
  <!--
  <property name="right_arm_hand_ring_j1_damping" value= "0.1" />
  <property name="right_arm_hand_ring_j1_friction" value= "0.0" />
  <property name="right_arm_hand_ring_j2_damping" value= "0.1" />
  <property name="right_arm_hand_ring_j2_friction" value= "0.0" />
-->
  <!--
  <property name="right_arm_hand_little_j1_damping" value= "0.1" />
  <property name="right_arm_hand_little_j1_friction" value= "0.0" />
  <property name="right_arm_hand_little_j2_damping" value= "0.1" />
  <property name="right_arm_hand_little_j2_friction" value= "0.0" />
-->
  <joint name="r2/right_arm/hand/thumb/roll" type="revolute">
    <parent link="r2/right_wrist_yaw"/>
    <child link="r2/right_thumb_base"/>
    <origin rpy=" 1.5708 0.174532791018 -1.30899687745 " xyz="0.03302 -0.03048 0.00635 "/>
    <axis xyz="0 0 1"/>
    <limit effort="10000000.0" lower="-4" upper="4" velocity="1000"/>
    <dynamics damping="0.1" friction="0.0"/>
  </joint>
  <joint name="r2/fixed/right_index_base/right_index_base" type="fixed">
    <parent link="r2/right_wrist_yaw"/>
    <child link="r2/right_index_base"/>
    <origin rpy=" 0.0 0.0 -0.122172725275  " xyz=" 0.0994646728 -0.0271119346 -0.0161544 "/>
  </joint>
  <joint name="r2/right_arm/hand/index/yaw" type="revolute">
    <parent link="r2/right_index_base"/>
    <child link="r2/right_index_yaw"/>
    <origin rpy="0.0 0.0 0.0" xyz="0.0 0.0 0.0"/>
    <axis xyz="0 0 1"/>
    <limit effort="10000000.0" lower="-4" upper="4" velocity="1000"/>
    <dynamics damping="0.1" friction="0.0"/>
  </joint>
  <joint name="r2/fixed/right_middle_base/right_middle_base" type="fixed">
    <parent link="r2/right_wrist_yaw"/>
    <child link="r2/right_middle_base"/>
    <origin rpy=" 0.0 0.0 0.0 " xyz="0.10646537 -0.00254 -0.0161544 "/>
  </joint>
  <joint name="r2/right_arm/hand/middle/yaw" type="revolute">
    <parent link="r2/right_middle_base"/>
    <child link="r2/right_middle_yaw"/>
    <origin rpy="0.0 0.0 0.0" xyz="0.0 0.0 0.0"/>
    <axis xyz="0 0 1"/>
    <limit effort="10000000.0" lower="-4" upper="4" velocity="1000"/>
    <dynamics damping="0.1" friction="0.0"/>
  </joint>
  <joint name="r2/right_arm/hand/ringlittle/ring" type="revolute">
    <parent link="r2/right_wrist_yaw"/>
    <child link="r2/right_ring_proximal"/>
    <origin rpy=" 1.57079632679 -0.0 0.122172725275  " xyz=" 0.1084539614 0.019792569 -0.012319 "/>
    <axis xyz="0 0 1"/>
    <limit effort="10000000.0" lower="-4" upper="4" velocity="1000"/>
    <dynamics damping="0.1" friction="0.0"/>
  </joint>
  <joint name="r2/right_arm/hand/ringlittle/little" type="revolute">
    <parent link="r2/right_wrist_yaw"/>
    <child link="r2/right_little_proximal"/>
    <origin rpy=" 1.53588943985 -0.0872667473393 0.17453258148  " xyz=" 0.094635701 0.0403792436 -0.0060878212 "/>
    <axis xyz="0 0 1"/>
    <limit effort="10000000.0" lower="-4" upper="4" velocity="1000"/>
    <dynamics damping="0.1" friction="0.0"/>
  </joint>
  <link name="r2/right_thumb_base">
    <inertial>
      <mass value=".05"/>
      <inertia ixx=".0010" ixy="0.0" ixz="0.0" iyy=".0010" iyz="0.0" izz=".0010"/>
    </inertial>
  </link>
  <joint name="r2/fixed/right_thumb_base/right_thumb_proximal" type="fixed">
    <parent link="r2/right_thumb_base"/>
    <child link="r2/right_thumb_proximal"/>
    <origin rpy=" -1.5708 -0.0 0.0 " xyz=" 0.011938 0.0 0.0 "/>
  </joint>
  <link name="r2/right_thumb_proximal">
    <inertial>
      <mass value=".05"/>
      <inertia ixx=".0010" ixy="0.0" ixz="0.0" iyy=".0010" iyz="0.0" izz=".0010"/>
    </inertial>
    <visual>
      <geometry>
        <mesh filename="package://r2_description/meshes/r2_upperbody/Left_Thumb_Carp.dae"/>
      </geometry>
      <origin rpy="-1.5708 0 0" xyz="-0.01 0.0 0.0"/>
    </visual>
    <collision>
      <geometry>
        <mesh filename="package://r2_description/meshes/r2_upperbody/Left_Thumb_Carp.dae" scale="0.9 0.9 0.9"/>
      </geometry>
      <origin rpy="-1.5708 0 0" xyz="-0.01 0.0 0.0"/>
    </collision>
  </link>
  <joint name="r2/right_arm/hand/thumb/proximal" type="revolute">
    <parent link="r2/right_thumb_proximal"/>
    <child link="r2/right_thumb_medial_prime"/>
    <origin rpy=" 0.0 0.0 0.0 " xyz=" 0.0 0.0 0.0 "/>
    <axis xyz="0 0 1"/>
    <limit effort="10000000.0" lower="-4" upper="4" velocity="1000"/>
    <dynamics damping="0.1" friction="0.0"/>
  </joint>
  <link name="r2/right_thumb_medial_prime">
    <inertial>
      <mass value=".05"/>
      <inertia ixx=".0010" ixy="0.0" ixz="0.0" iyy=".0010" iyz="0.0" izz=".0010"/>
    </inertial>
    <visual>
      <geometry>
        <mesh filename="package://r2_description/meshes/r2_upperbody/Right_Thumb_MtCar.dae"/>
      </geometry>
      <origin rpy="-1.5708 -1.5708 0 " xyz="-0.0 0 0.0"/>
    </visual>
    <collision>
      <geometry>
        <mesh filename="package://r2_description/meshes/r2_upperbody/Right_Thumb_MtCar.dae" scale="0.9 0.9 0.9"/>
      </geometry>
      <origin rpy="-1.5708 -1.5708 0 " xyz="-0.0 0 0.0"/>
    </collision>
  </link>
  <joint name="r2/right_arm/hand/thumb/medial" type="revolute">
    <parent link="r2/right_thumb_medial_prime"/>
    <child link="r2/right_thumb_medial"/>
    <origin rpy=" 0.698132284627 0.0 0.0 " xyz=" 0.030734 -0.001905 -0.00254 "/>
    <axis xyz="0 0 1"/>
    <limit effort="10000000.0" lower="-4" upper="4" velocity="1000"/>
    <dynamics damping="0.1" friction="0.0"/>
  </joint>
  <link name="r2/right_thumb_medial">
    <inertial>
      <mass value=".05"/>
      <inertia ixx=".0010" ixy="0.0" ixz="0.0" iyy=".0010" iyz="0.0" izz=".0010"/>
    </inertial>
    <visual>
      <geometry>
        <mesh filename="package://r2_description/meshes/r2_upperbody/Thumb_Proximal.dae"/>
      </geometry>
      <origin rpy="3.1416 0 1.5708" xyz="0.0 0.0 0.0"/>
    </visual>
    <collision>
      <geometry>
        <mesh filename="package://r2_description/meshes/r2_upperbody/Thumb_Proximal.dae"/>
      </geometry>
      <origin rpy="3.1416 0 1.5708" xyz="0.0 0.0 0.0"/>
    </collision>
  </link>
  <joint name="r2/right_arm/hand/thumb/distal" type="revolute">
    <parent link="r2/right_thumb_medial"/>
    <child link="r2/right_thumb_distal"/>
    <origin rpy=" 0.0 0.0 0.0 " xyz=" 0.03937 0.0 0.0 "/>
    <axis xyz="0 0 1"/>
    <limit effort="10000000.0" lower="-4" upper="4" velocity="1000"/>
    <dynamics damping="0.1" friction="0.0"/>
  </joint>
  <link name="r2/right_thumb_distal">
    <inertial>
      <mass value=".05"/>
      <inertia ixx=".0010" ixy="0.0" ixz="0.0" iyy=".0010" iyz="0.0" izz=".0010"/>
    </inertial>
    <visual>
      <geometry>
        <mesh filename="package://r2_description/meshes/r2_upperbody/Thumb_Dist.dae"/>
      </geometry>
      <origin rpy="3.1416 3.1416 0" xyz="0.0 0.0 0.0"/>
    </visual>
    <collision>
      <geometry>
        <mesh filename="package://r2_description/meshes/r2_upperbody/Thumb_Dist.dae"/>
      </geometry>
      <origin rpy="3.1416 3.1416 0" xyz="0.0 0.0 0.0"/>
    </collision>
  </link>
  <joint name="r2/fixed/right_thumb_distal/right_thumb_tip" type="fixed">
    <parent link="r2/right_thumb_distal"/>
    <child link="r2/right_thumb_tip"/>
    <origin rpy=" 0.0 0.0 0.0 " xyz=" 0.03302 0.0 0.0 "/>
  </joint>
  <link name="r2/right_thumb_tip">
    <inertial>
      <mass value=".05"/>
      <inertia ixx=".0010" ixy="0.0" ixz="0.0" iyy=".0010" iyz="0.0" izz=".0010"/>
    </inertial>
  </link>
  <link name="r2/right_index_base">
    <inertial>
      <mass value=".05"/>
      <inertia ixx=".0010" ixy="0.0" ixz="0.0" iyy=".0010" iyz="0.0" izz=".0010"/>
    </inertial>
  </link>
  <link name="r2/right_index_yaw">
    <inertial>
      <mass value=".05"/>
      <inertia ixx=".0010" ixy="0.0" ixz="0.0" iyy=".0010" iyz="0.0" izz=".0010"/>
    </inertial>
  </link>
  <joint name="r2/right_arm/hand/index/proximal" type="revolute">
    <parent link="r2/right_index_yaw"/>
    <child link="r2/right_index_proximal"/>
    <origin rpy=" 1.5708 -0.0 0.0 " xyz=" 0.009652 0.0 0.0 "/>
    <axis xyz="0 0 1"/>
    <limit effort="10000000.0" lower="-4" upper="4" velocity="1000"/>
    <dynamics damping="0.1" friction="0.0"/>
  </joint>
  <link name="r2/right_index_proximal">
    <inertial>
      <mass value=".05"/>
      <inertia ixx=".0010" ixy="0.0" ixz="0.0" iyy=".0010" iyz="0.0" izz=".0010"/>
    </inertial>
    <visual>
      <geometry>
        <mesh filename="package://r2_description/meshes/r2_upperbody/Finger_Proximal.dae"/>
      </geometry>
      <origin rpy="0 0 1.5708" xyz="0.0 0.0 0.0"/>
    </visual>
    <collision>
      <geometry>
        <mesh filename="package://r2_description/meshes/r2_upperbody/Finger_Proximal.dae"/>
      </geometry>
      <origin rpy="0 0 1.5708" xyz="0.0 0.0 0.0"/>
    </collision>
  </link>
  <joint name="r2/right_arm/hand/index/medial" type="revolute">
    <parent link="r2/right_index_proximal"/>
    <child link="r2/right_index_medial"/>
    <origin rpy=" 0.0 0.0 0.0 " xyz=" 0.04445 0.0 0.0 "/>
    <axis xyz="0 0 1"/>
    <limit effort="10000000.0" lower="-4" upper="4" velocity="1000"/>
    <dynamics damping="0.1" friction="0.0"/>
  </joint>
  <link name="r2/right_index_medial">
    <inertial>
      <mass value=".05"/>
      <inertia ixx=".0010" ixy="0.0" ixz="0.0" iyy=".0010" iyz="0.0" izz=".0010"/>
    </inertial>
    <visual>
      <geometry>
        <mesh filename="package://r2_description/meshes/r2_upperbody/Finger_Mid.dae"/>
      </geometry>
      <origin rpy="3.1416 0 1.5708" xyz="0.0 0.0 0.0"/>
    </visual>
    <collision>
      <geometry>
        <mesh filename="package://r2_description/meshes/r2_upperbody/Finger_Mid.dae"/>
      </geometry>
      <origin rpy="3.1416 0 1.5708" xyz="0.0 0.0 0.0"/>
    </collision>
  </link>
  <link name="r2/right_middle_base">
    <inertial>
      <mass value=".0010"/>
      <inertia ixx=".0010" ixy="0.0" ixz="0.0" iyy=".0010" iyz="0.0" izz=".0010"/>
    </inertial>
  </link>
  <link name="r2/right_middle_yaw">
    <inertial>
      <mass value=".0010"/>
      <inertia ixx=".0010" ixy="0.0" ixz="0.0" iyy=".0010" iyz="0.0" izz=".0010"/>
    </inertial>
  </link>
  <joint name="r2/right_arm/hand/middle/proximal" type="revolute">
    <parent link="r2/right_middle_yaw"/>
    <child link="r2/right_middle_proximal"/>
    <origin rpy=" 1.5708 -0.0 0.0 " xyz=" 0.009652 0.0 0.0 "/>
    <axis xyz="0 0 1"/>
    <limit effort="10000000.0" lower="-4" upper="4" velocity="1000"/>
    <dynamics damping="0.1" friction="0.0"/>
  </joint>
  <link name="r2/right_middle_proximal">
    <inertial>
      <mass value=".05"/>
      <inertia ixx=".0010" ixy="0.0" ixz="0.0" iyy=".0010" iyz="0.0" izz=".0010"/>
    </inertial>
    <visual>
      <geometry>
        <mesh filename="package://r2_description/meshes/r2_upperbody/Finger_Proximal.dae"/>
      </geometry>
      <origin rpy="0 0 1.5708" xyz="0.0 0.0 0.0"/>
    </visual>
    <collision>
      <geometry>
        <mesh filename="package://r2_description/meshes/r2_upperbody/Finger_Proximal.dae" scale="0.9 0.9 0.9"/>
      </geometry>
      <origin rpy="0 0 1.5708" xyz="0.0 0.0 0.0"/>
    </collision>
  </link>
  <joint name="r2/right_arm/hand/middle/medial" type="revolute">
    <parent link="r2/right_middle_proximal"/>
    <child link="r2/right_middle_medial"/>
    <origin rpy=" 0.0 0.0 0.0 " xyz=" 0.04445 0.0 0.0 "/>
    <axis xyz="0 0 1"/>
    <limit effort="10000000.0" lower="-4" upper="4" velocity="1000"/>
    <dynamics damping="0.1" friction="0.0"/>
  </joint>
  <link name="r2/right_middle_medial">
    <inertial>
      <mass value=".05"/>
      <inertia ixx=".0010" ixy="0.0" ixz="0.0" iyy=".0010" iyz="0.0" izz=".0010"/>
    </inertial>
    <visual>
      <geometry>
        <mesh filename="package://r2_description/meshes/r2_upperbody/Finger_Mid.dae"/>
      </geometry>
      <origin rpy="3.1416 0 1.5708" xyz="0.0 0.0 0.0"/>
    </visual>
    <collision>
      <geometry>
        <mesh filename="package://r2_description/meshes/r2_upperbody/Finger_Mid.dae" scale="0.9 0.9 0.9"/>
      </geometry>
      <origin rpy="3.1416 0 1.5708" xyz="0.0 0.0 0.0"/>
    </collision>
  </link>
  <link name="r2/right_ring_proximal">
    <inertial>
      <mass value=".05"/>
      <inertia ixx=".0010" ixy="0.0" ixz="0.0" iyy=".0010" iyz="0.0" izz=".0010"/>
    </inertial>
    <visual>
      <geometry>
        <mesh filename="package://r2_description/meshes/r2_upperbody/Finger_Proximal.dae"/>
      </geometry>
      <origin rpy="0 0 1.5708" xyz="0.0 0.0 0.0"/>
    </visual>
    <collision>
      <geometry>
        <mesh filename="package://r2_description/meshes/r2_upperbody/Finger_Proximal.dae" scale="0.9 0.9 0.9"/>
      </geometry>
      <origin rpy="0 0 1.5708" xyz="0.0 0.0 0.0"/>
    </collision>
  </link>
  <link name="r2/right_little_proximal">
    <inertial>
      <mass value=".05"/>
      <inertia ixx=".0010" ixy="0.0" ixz="0.0" iyy=".0010" iyz="0.0" izz=".0010"/>
    </inertial>
    <visual>
      <geometry>
        <mesh filename="package://r2_description/meshes/r2_upperbody/Finger_Proximal.dae"/>
      </geometry>
      <origin rpy="0 0 1.5708" xyz="0.0 0.0 0.0"/>
    </visual>
    <collision>
      <geometry>
        <mesh filename="package://r2_description/meshes/r2_upperbody/Finger_Proximal.dae" scale="0.9 0.9 0.9"/>
      </geometry>
      <origin rpy="0 0 1.5708" xyz="0.0 0.0 0.0"/>
    </collision>
  </link>
</robot>
